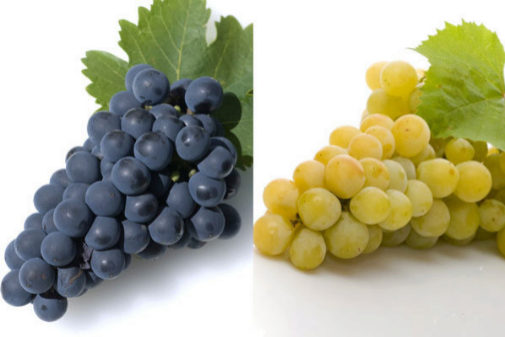Black grapes: (3, 66, 230, 308)
Green grapes: (266, 66, 505, 266)
